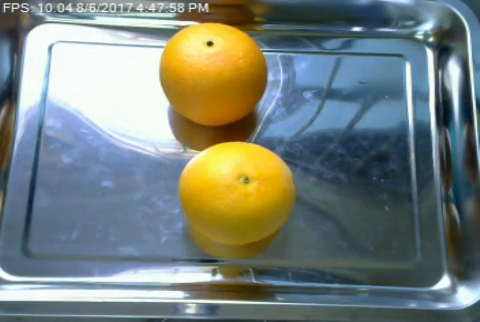Orange: (178, 141, 296, 244), (159, 21, 268, 126)
